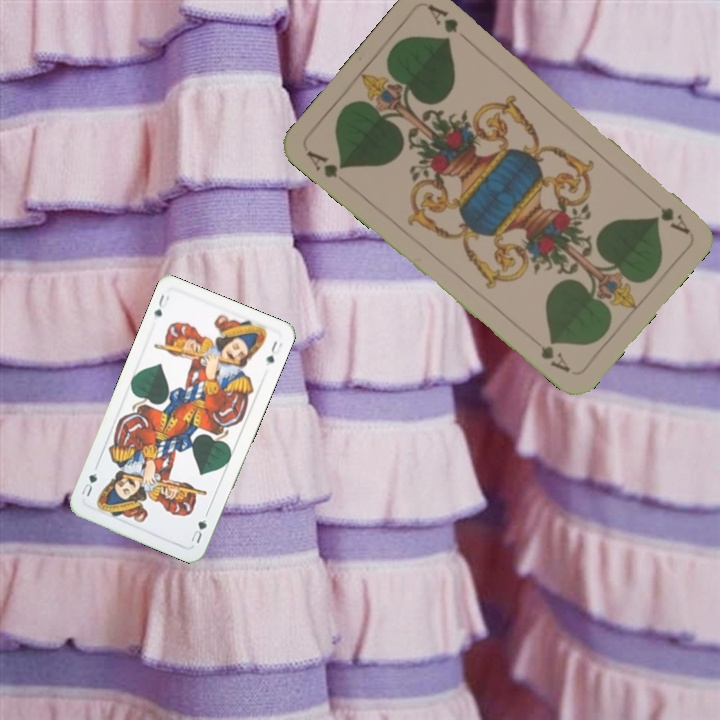GA: (645, 192, 693, 237), (301, 146, 348, 181)
GU: (187, 515, 210, 546), (150, 290, 172, 319)
